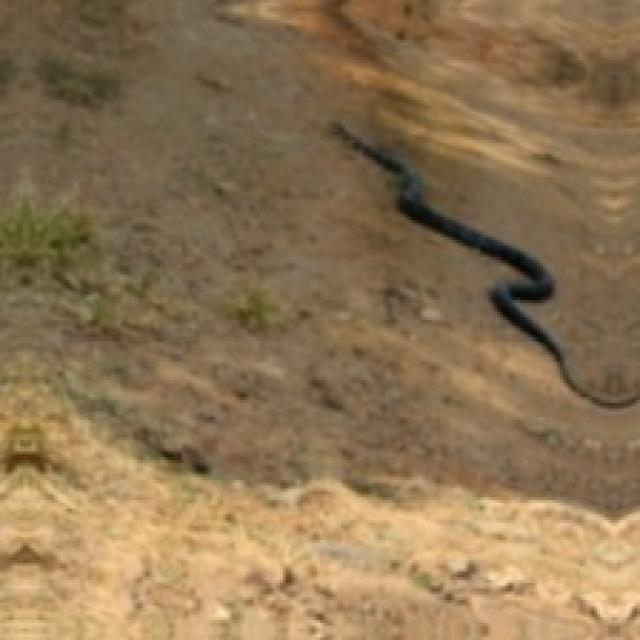king cobra: (331, 123, 637, 406)
